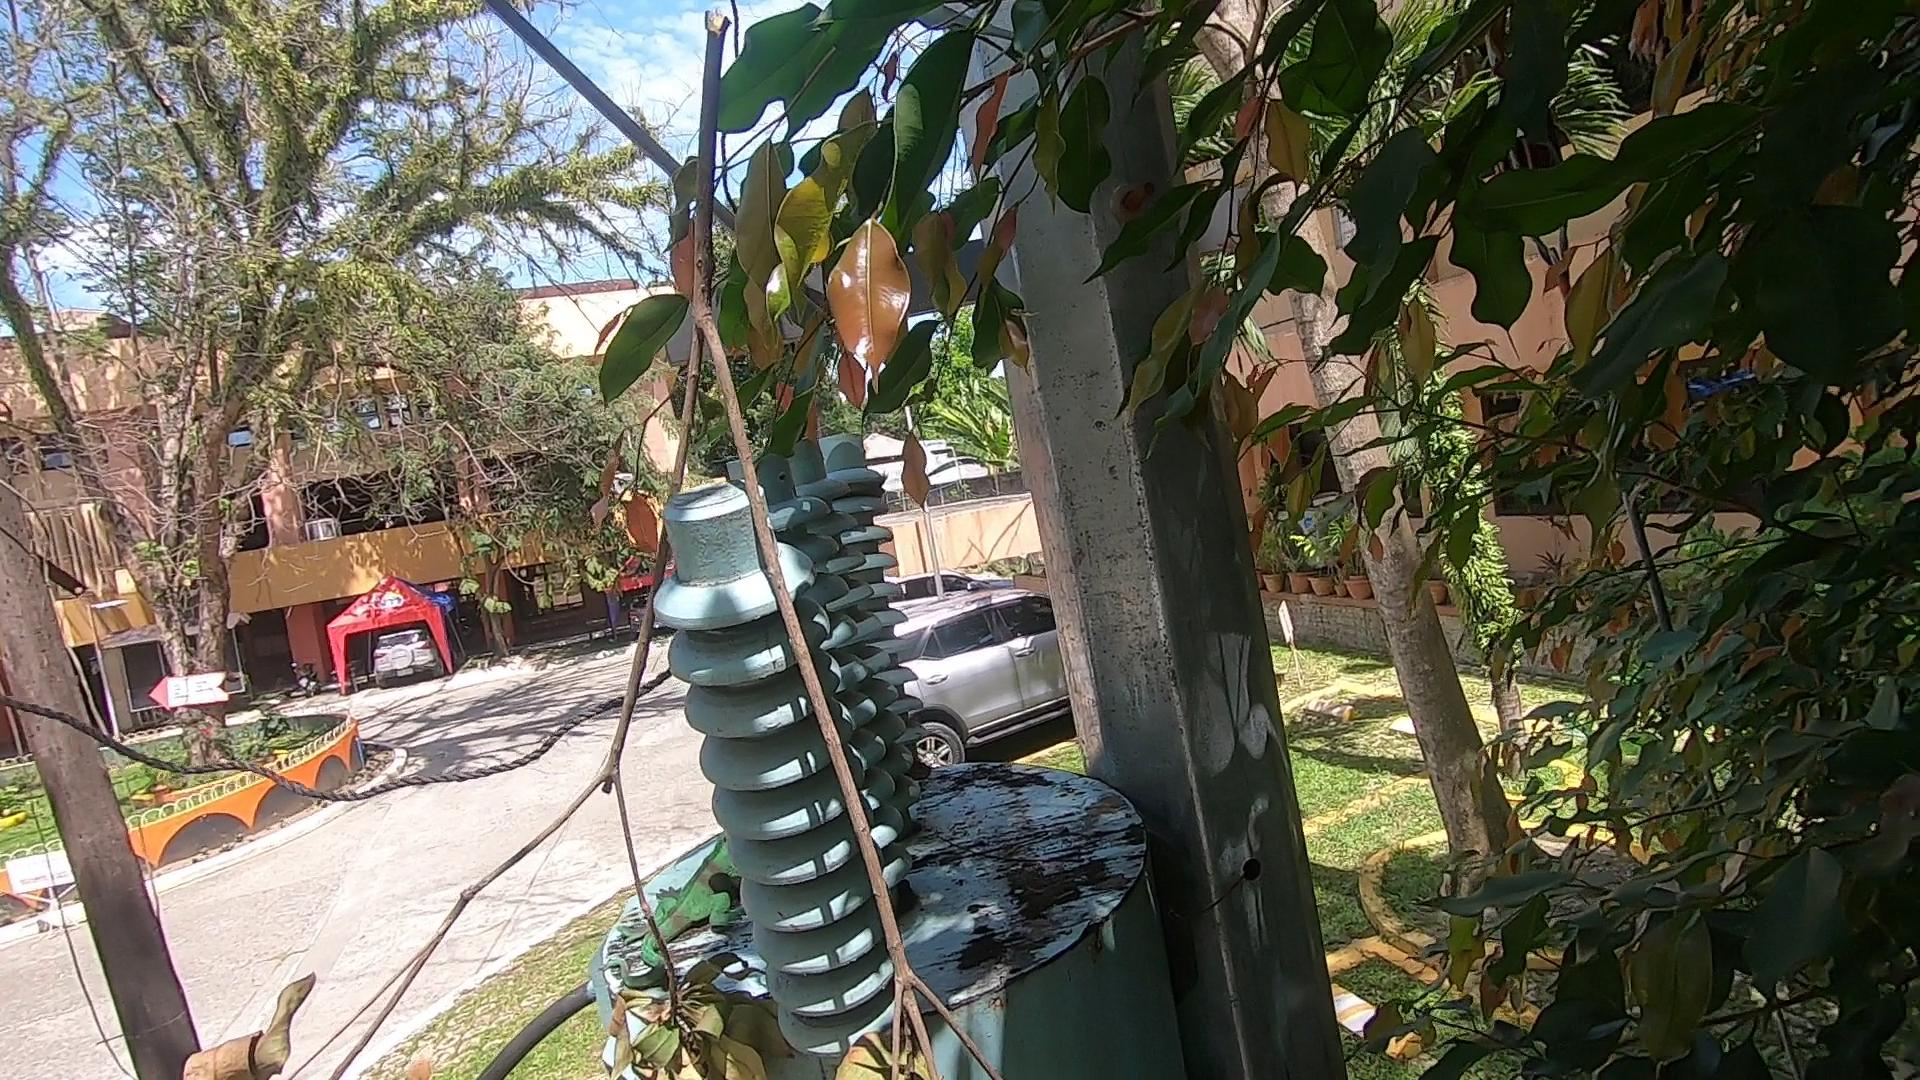branch with leaves: (173, 11, 1048, 1080)
leaf: (705, 866, 738, 907)
